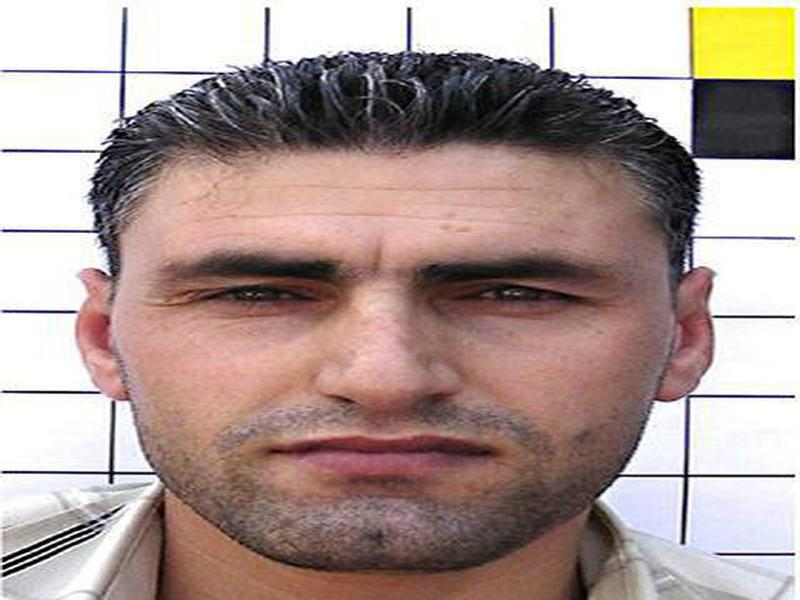without_mask: (116, 146, 668, 576)
